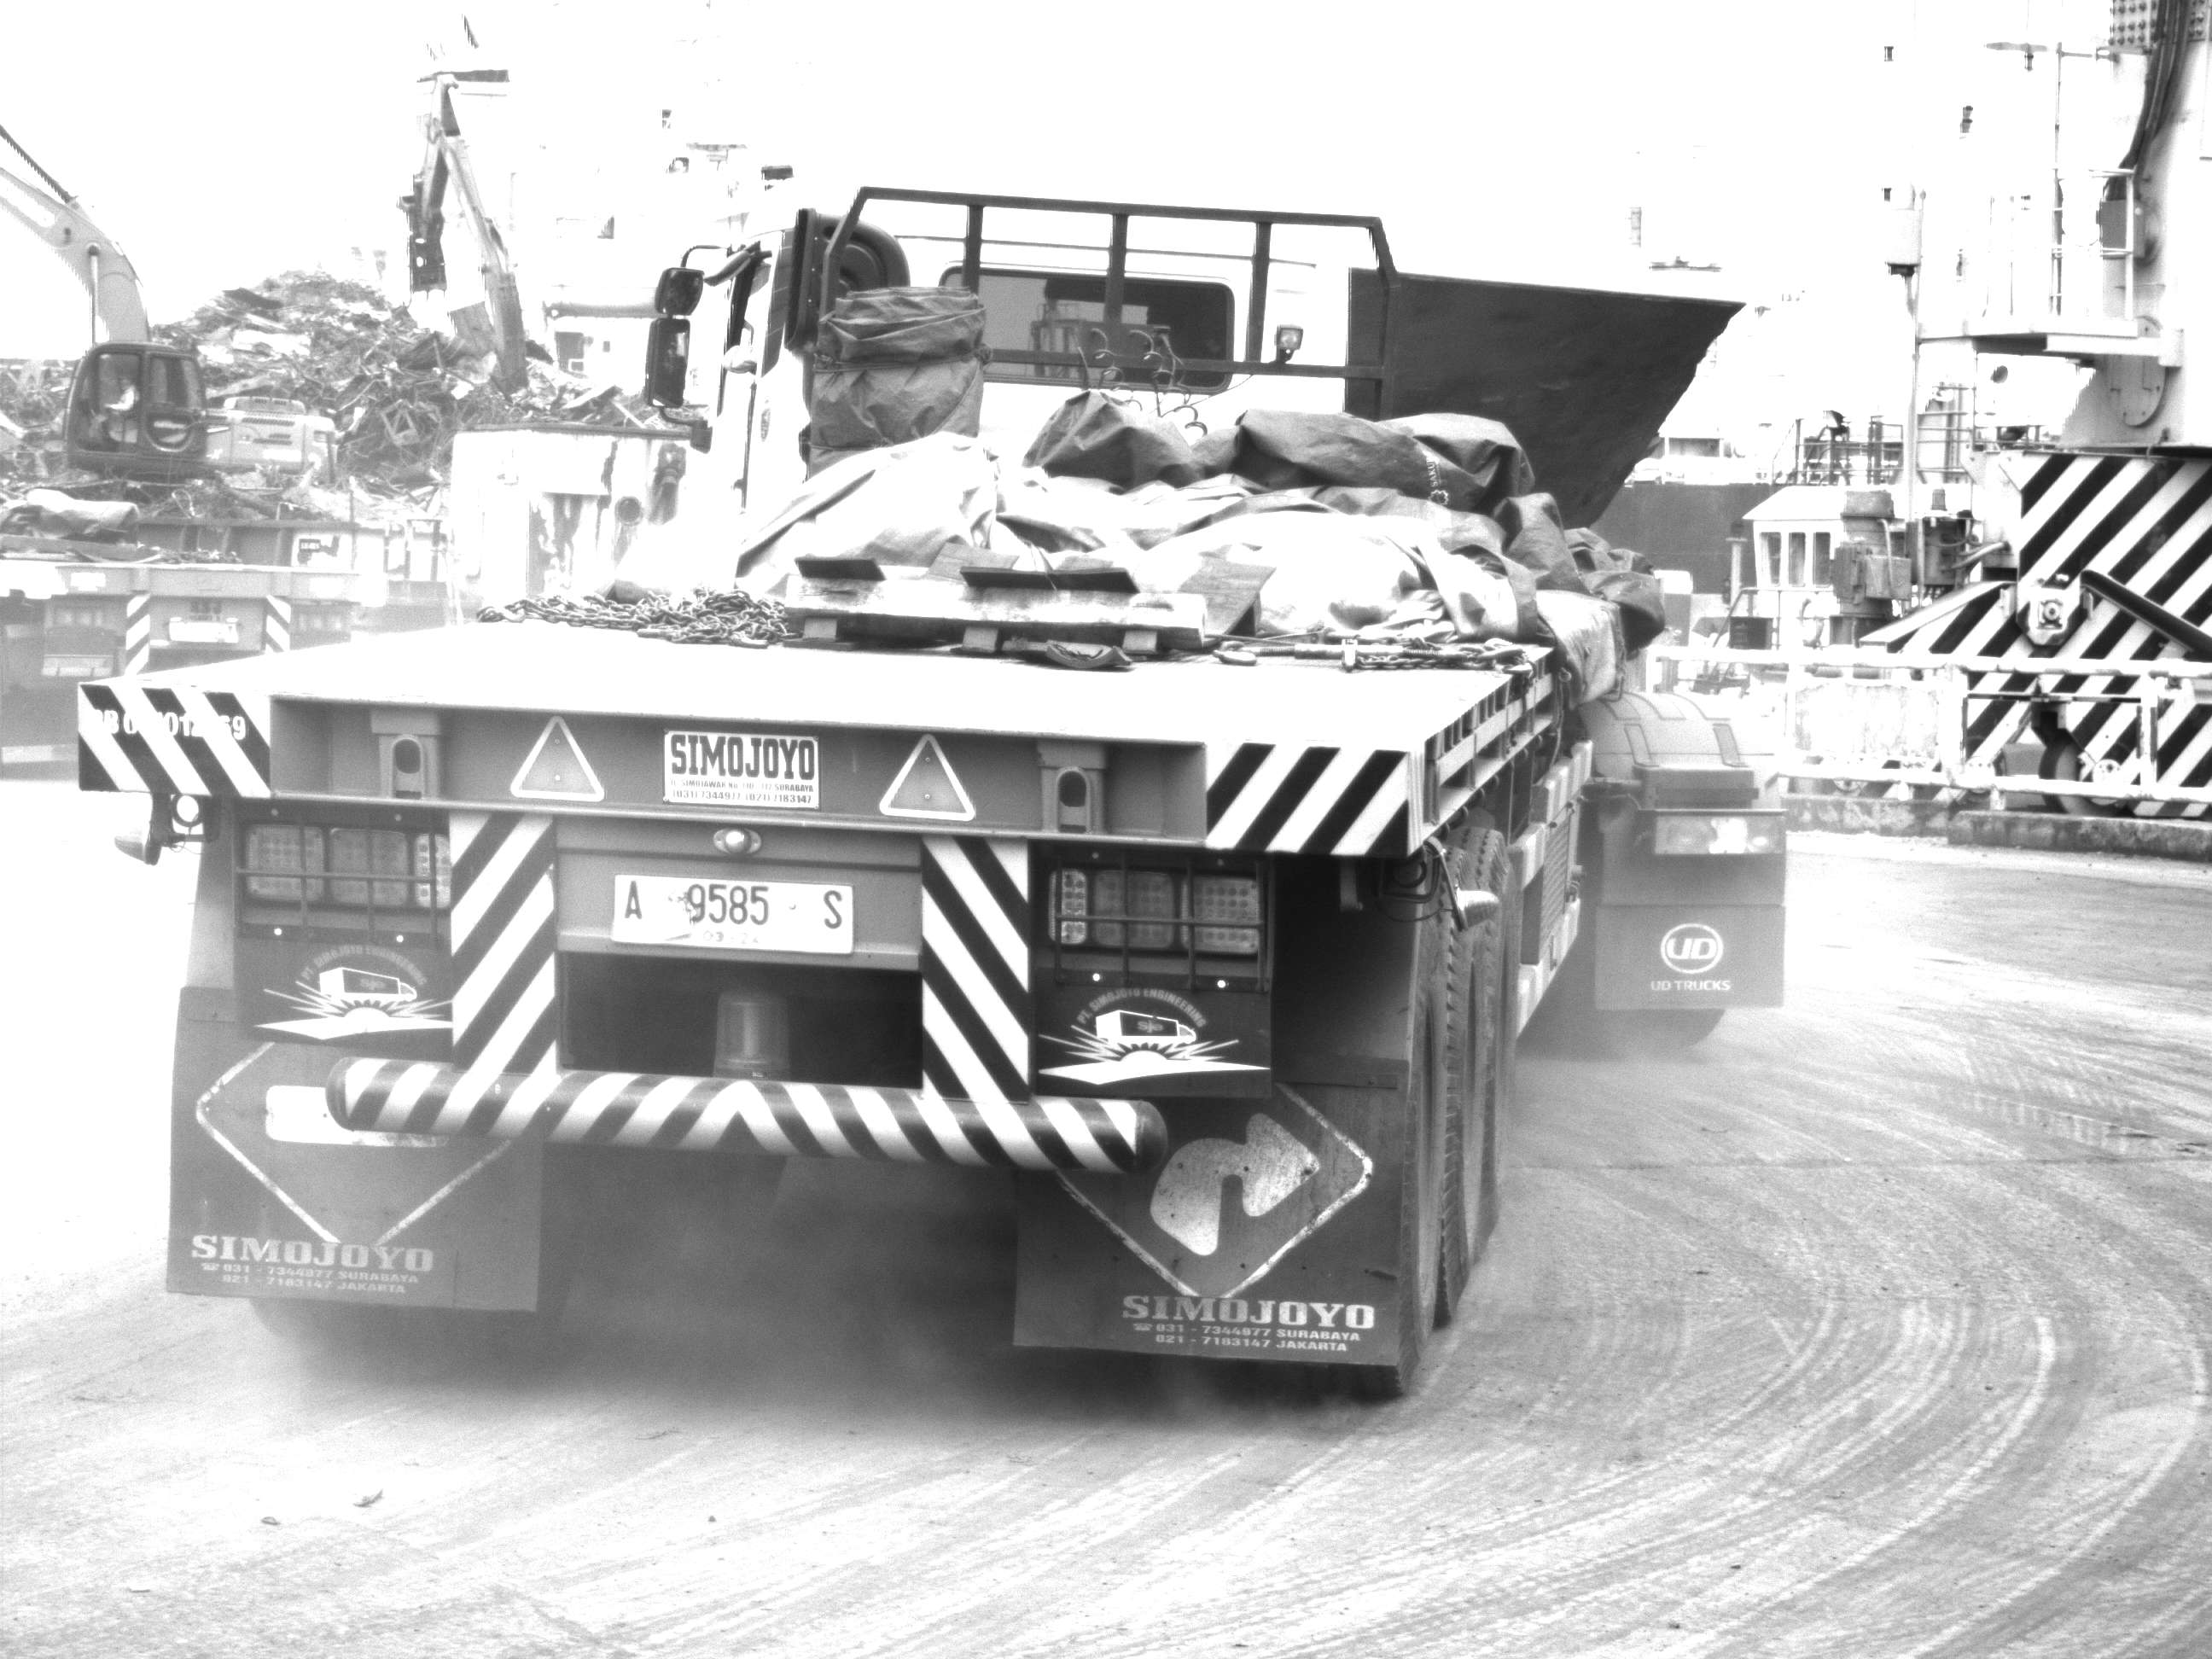truck_backside: (63, 558, 1794, 1445)
